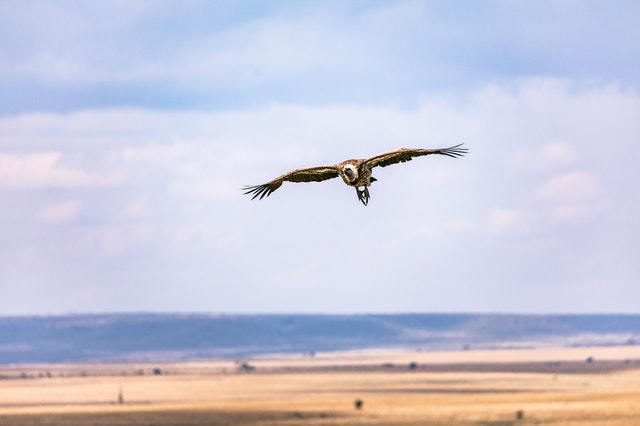bird: (242, 142, 468, 205)
